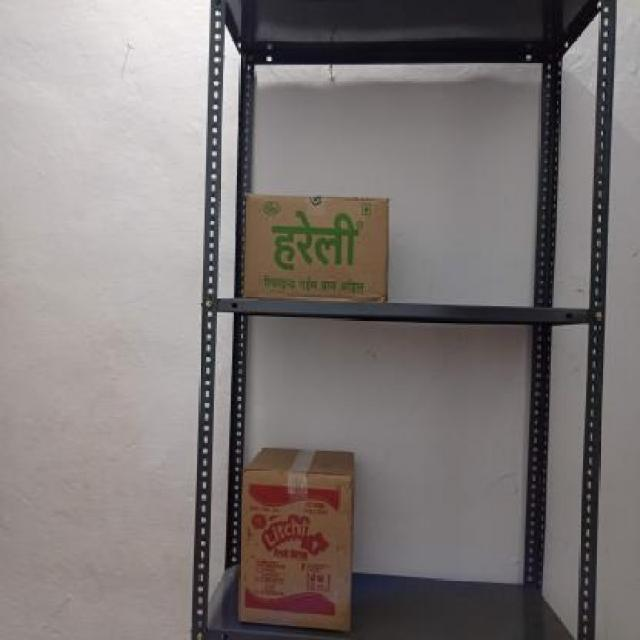box: (236, 469, 352, 623), (244, 192, 390, 305)
